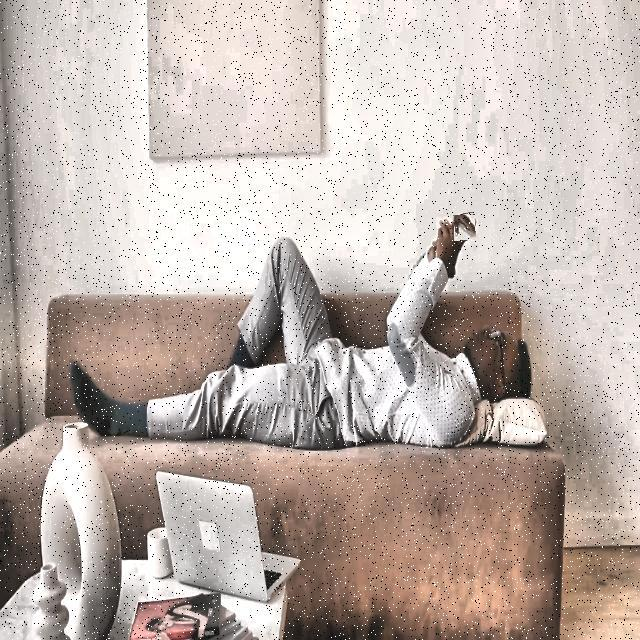Phone: (453, 213, 476, 242)
